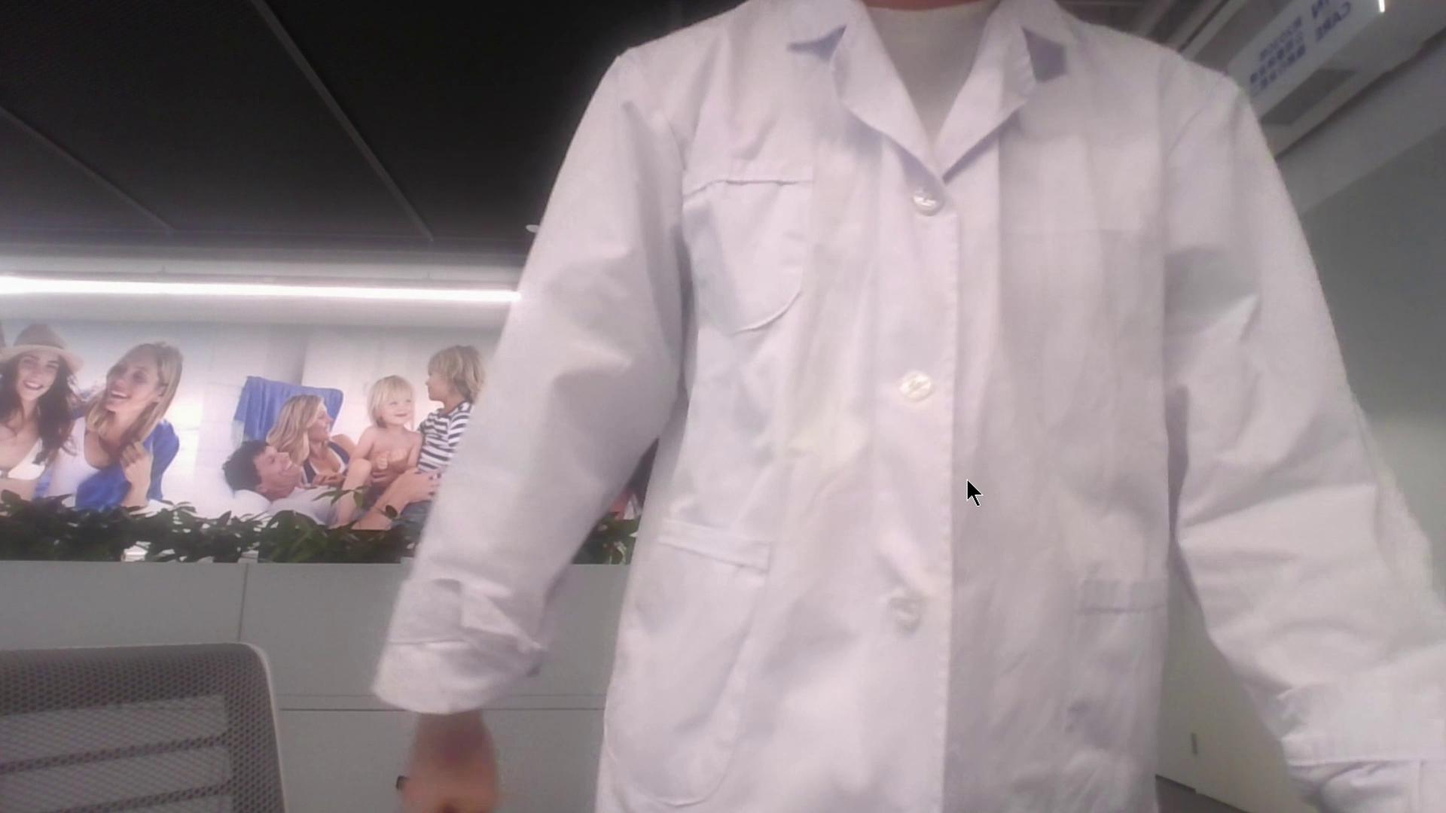Lab_coat: (392, 4, 1395, 813)
